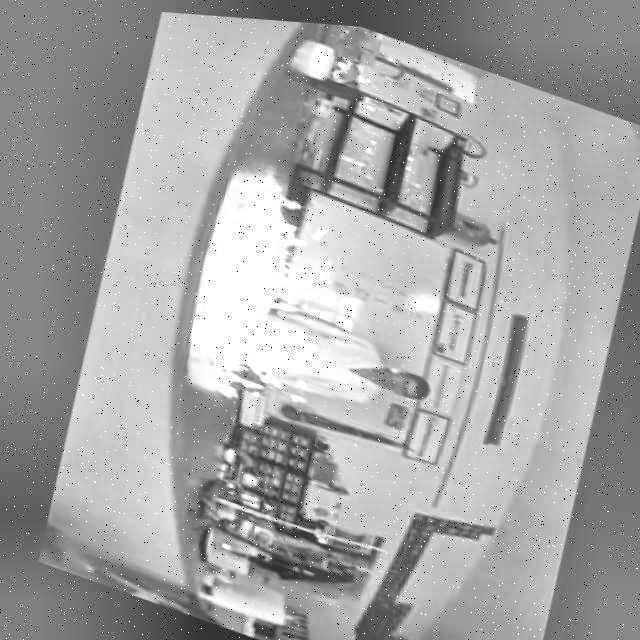Fire: (176, 147, 371, 432)
